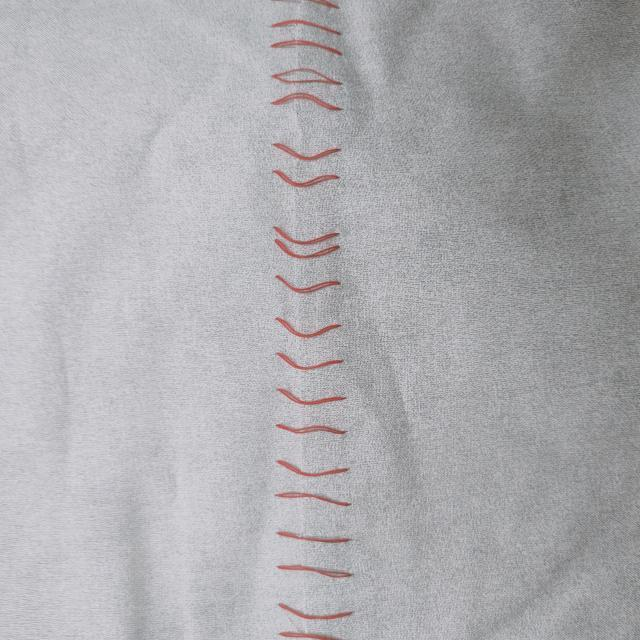Stitch: (222, 2, 436, 640)
